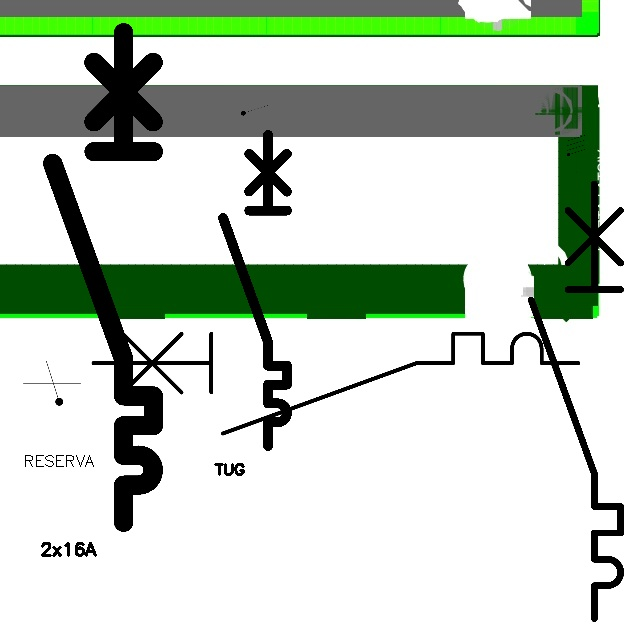interruptor_termomagnetico: (40, 20, 166, 535), (80, 321, 590, 446), (520, 172, 632, 629), (215, 127, 295, 454)
